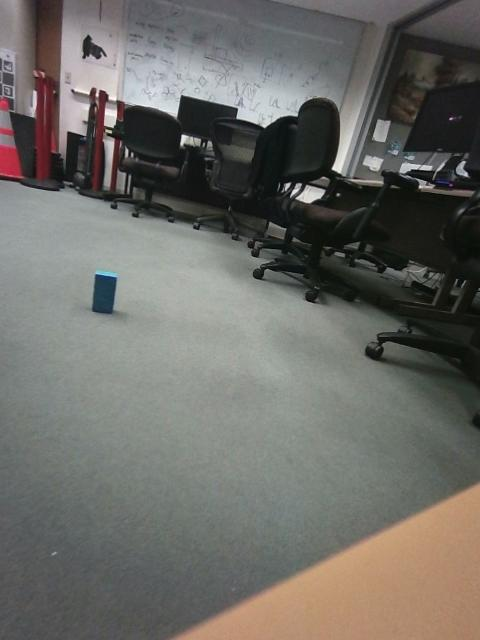block: (223, 360, 299, 415)
